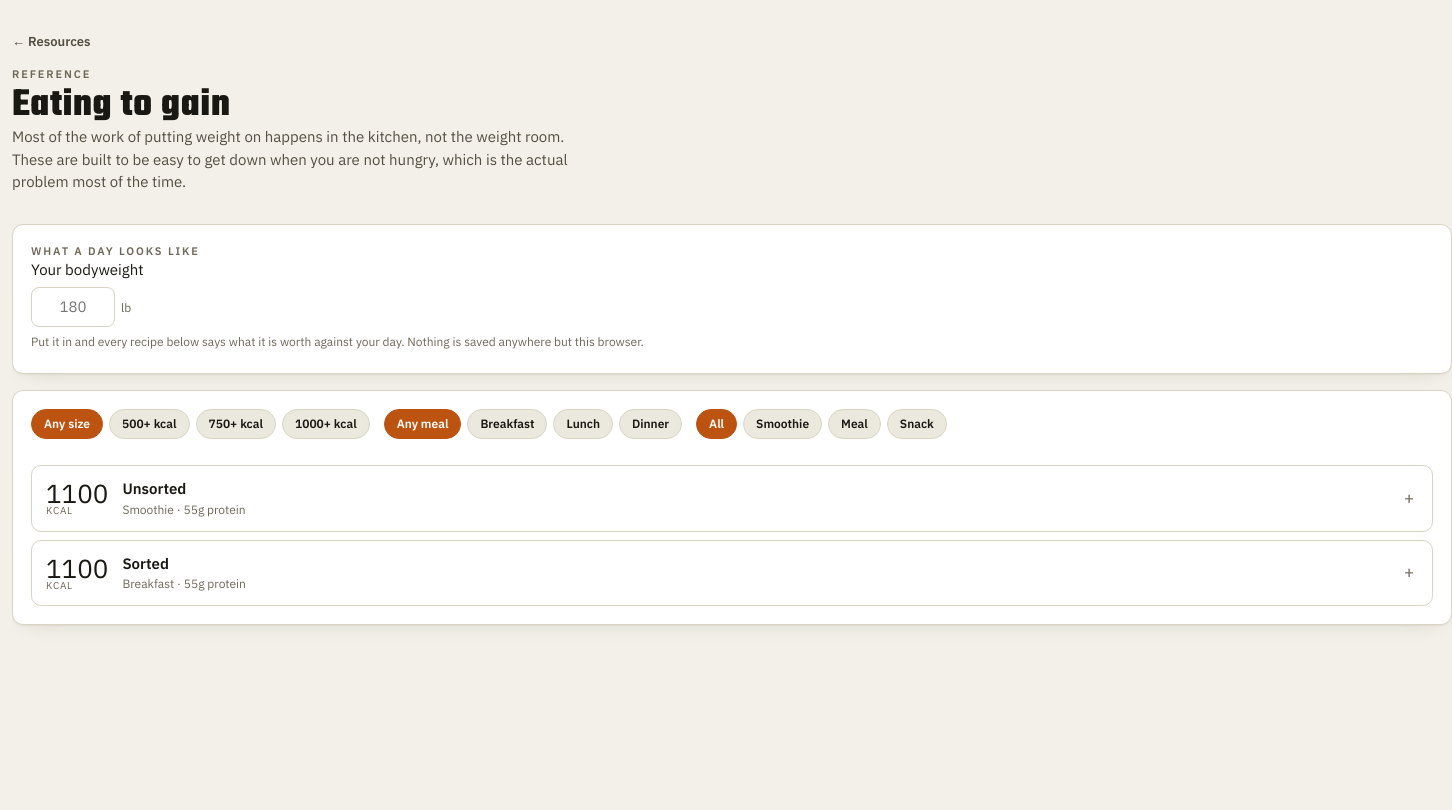
an unsorted recipe is not an answer to a meal question
Expected: the text "Unsorted" is shown, [122,479,186,498]
Click the button "Breakfast": point(507, 424) [467,409,548,439]
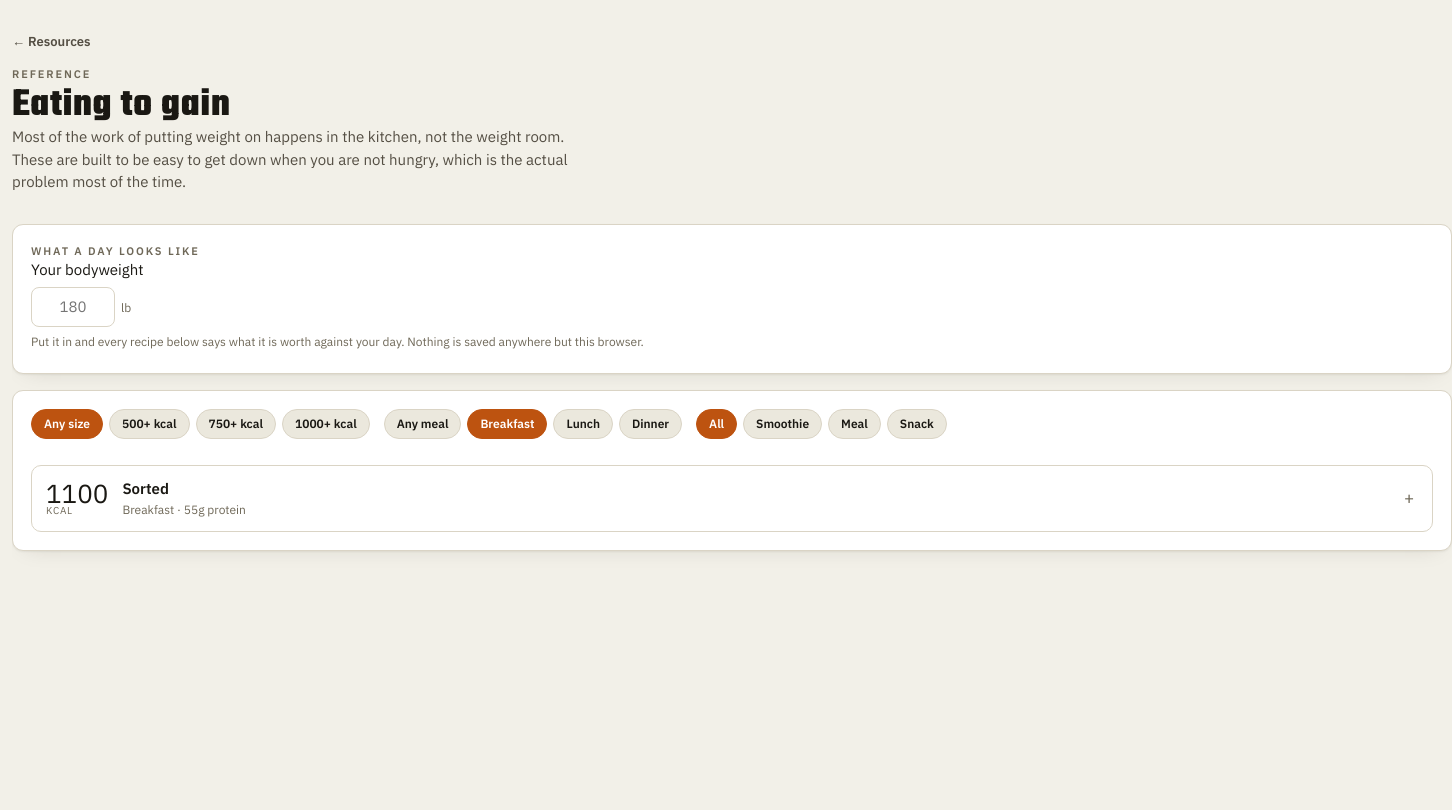
Expected: the text "Sorted" is shown, [122,479,169,498]
Expected: the button "Unsorted" is gone
